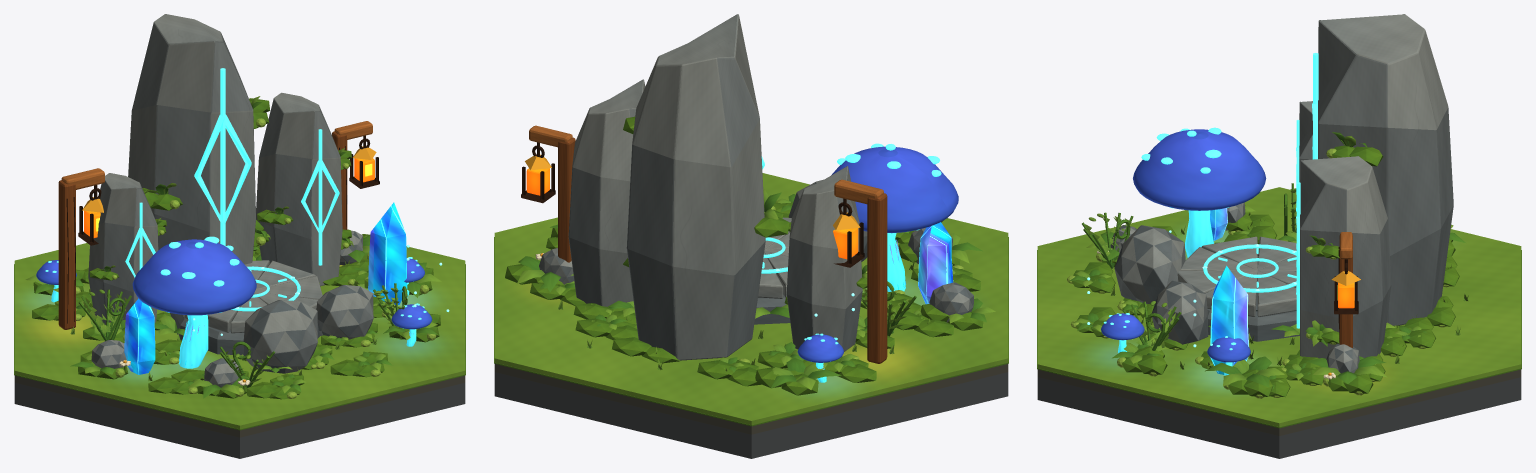
File: hex_rune_shrine.glb
3 views of the same model, side by side, from view 1: azimuth 30°, elevation 25°; view 2: azimuth 150°, elevation 25°; view 3: azimuth 270°, elevation 25° (orthographic). The views are drawn at different scales.
Visible parts, largest first — view 1: Standard hex meadow top.001, Weathered shrine monolith.001, Weathered shrine monolith.003, Standard hex stone foundation.001, Broad faceted mushroom cap.001, Weathered shrine monolith.002, Angular mossy forest boulder.001, Standard hex earth layer.001, Faceted magical crystal.001, Angular mossy forest boulder.002, Woodland lantern upright.001, Faceted magical crystal.002 (+16 smaller); view 2: Weathered shrine monolith.001, Standard hex meadow top.001, Standard hex stone foundation.001, Weathered shrine monolith.003, Weathered shrine monolith.002, Broad faceted mushroom cap.001, Standard hex earth layer.001, Woodland lantern upright.001, Faceted magical crystal.002, Woodland lantern upright.002, Angular mossy forest boulder.003, Broad faceted mushroom cap.003 (+14 smaller); view 3: Standard hex meadow top.001, Weathered shrine monolith.001, Weathered shrine monolith.003, Standard hex stone foundation.001, Broad faceted mushroom cap.001, Standard hex earth layer.001, Angular mossy forest boulder.001, Angular mossy forest boulder.002, Faceted magical crystal.001, Radial shrine paving stone.008, Shrine stone pedestal.001, Curving luminous mushroom stem.001 (+11 smaller).
Boxes of the visible parts, left/top/right/bottom form: Standard hex meadow top.001: left=14, top=243, right=465, bottom=429; Weathered shrine monolith.001: left=128, top=14, right=255, bottom=264; Weathered shrine monolith.003: left=256, top=92, right=342, bottom=286; Standard hex stone foundation.001: left=14, top=383, right=465, bottom=458; Broad faceted mushroom cap.001: left=132, top=239, right=256, bottom=315; Weathered shrine monolith.002: left=88, top=173, right=158, bottom=324; Angular mossy forest boulder.001: left=243, top=300, right=317, bottom=373; Standard hex earth layer.001: left=14, top=375, right=465, bottom=437; Faceted magical crystal.001: left=368, top=202, right=407, bottom=304; Angular mossy forest boulder.002: left=316, top=285, right=373, bottom=339; Woodland lantern upright.001: left=58, top=180, right=75, bottom=329; Faceted magical crystal.002: left=124, top=298, right=155, bottom=374; Weathered shrine monolith.001: left=626, top=14, right=765, bottom=360; Standard hex meadow top.001: left=494, top=173, right=1008, bottom=425; Standard hex stone foundation.001: left=494, top=372, right=1008, bottom=458; Weathered shrine monolith.003: left=568, top=79, right=645, bottom=307; Weathered shrine monolith.002: left=786, top=166, right=862, bottom=351; Broad faceted mushroom cap.001: left=831, top=146, right=958, bottom=233; Standard hex earth layer.001: left=494, top=364, right=1008, bottom=434; Woodland lantern upright.001: left=867, top=193, right=887, bottom=363; Faceted magical crystal.002: left=918, top=222, right=953, bottom=304; Woodland lantern upright.002: left=558, top=137, right=575, bottom=262; Angular mossy forest boulder.003: left=929, top=282, right=973, bottom=322; Broad faceted mushroom cap.003: left=797, top=334, right=843, bottom=362; Standard hex meadow top.001: left=1037, top=187, right=1521, bottom=426; Weathered shrine monolith.001: left=1318, top=14, right=1453, bottom=325; Weathered shrine monolith.003: left=1300, top=156, right=1391, bottom=358; Standard hex stone foundation.001: left=1037, top=377, right=1521, bottom=458; Broad faceted mushroom cap.001: left=1133, top=129, right=1266, bottom=210; Standard hex earth layer.001: left=1037, top=369, right=1521, bottom=435; Angular mossy forest boulder.001: left=1114, top=225, right=1185, bottom=303; Angular mossy forest boulder.002: left=1151, top=280, right=1208, bottom=344; Faceted magical crystal.001: left=1210, top=265, right=1249, bottom=374; Radial shrine paving stone.008: left=1257, top=271, right=1296, bottom=316; Shrine stone pedestal.001: left=1207, top=249, right=1299, bottom=341; Curving luminous mushroom stem.001: left=1185, top=210, right=1213, bottom=257.
Bounding box in the file's own units: 5.11 × 3.19 × 4.42.
Materials: 44 (31 with a texture image).
